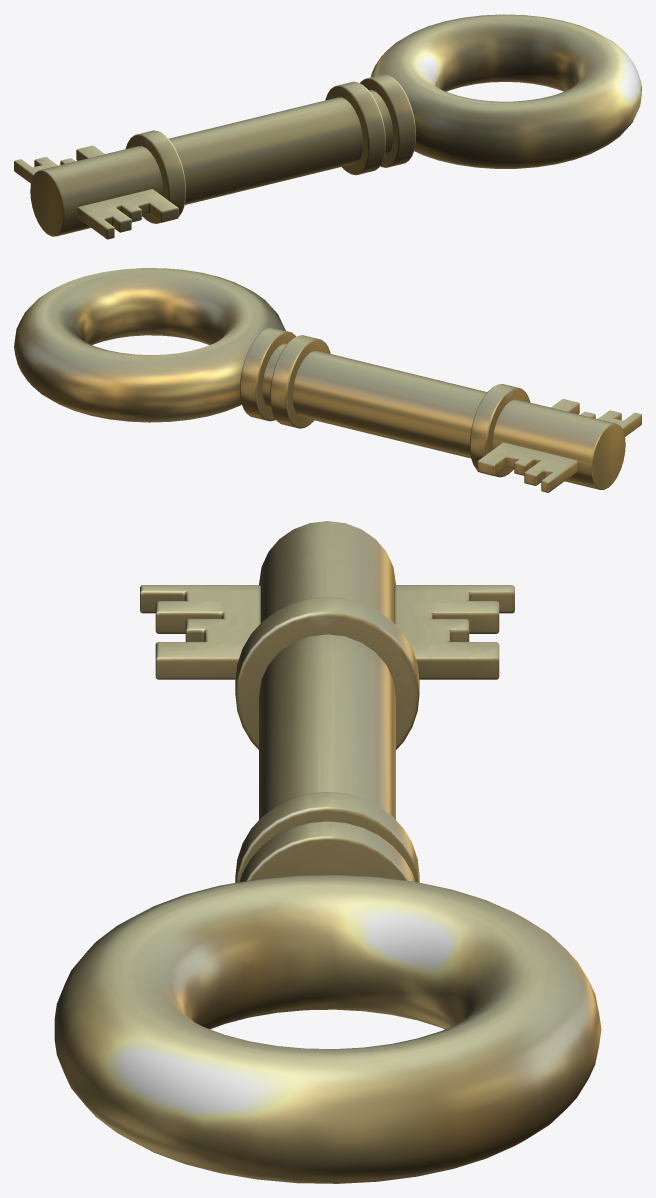
The model's file is GoldenKey.obj.
3 renders of one model, top to bottom at view 1: azimuth 30°, elevation 25°; view 2: azimuth 150°, elevation 25°; view 3: azimuth 270°, elevation 25°, orthographic. The views are drawn at different scales.
Parts seen in each view (by area): view 1: GoldenKey; view 2: GoldenKey; view 3: GoldenKey.
Boxes of the visible parts, x1,y1,x2,y2 form: GoldenKey: [14, 14, 641, 239]; GoldenKey: [14, 268, 641, 492]; GoldenKey: [54, 521, 601, 1183].
Bounding box in the file's own units: 1001 × 138 × 411.
